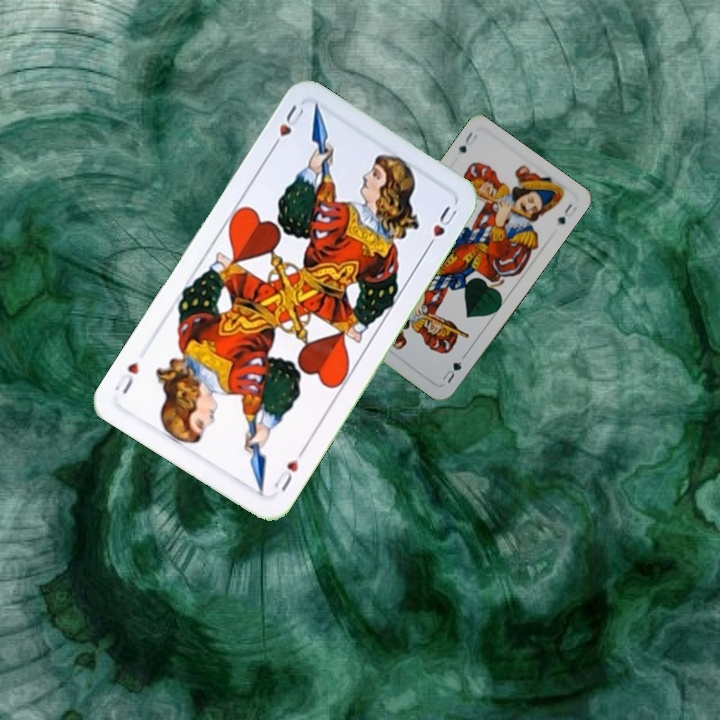GU: (438, 357, 464, 386), (455, 128, 480, 156)
HU: (267, 100, 307, 153), (269, 445, 307, 494)
